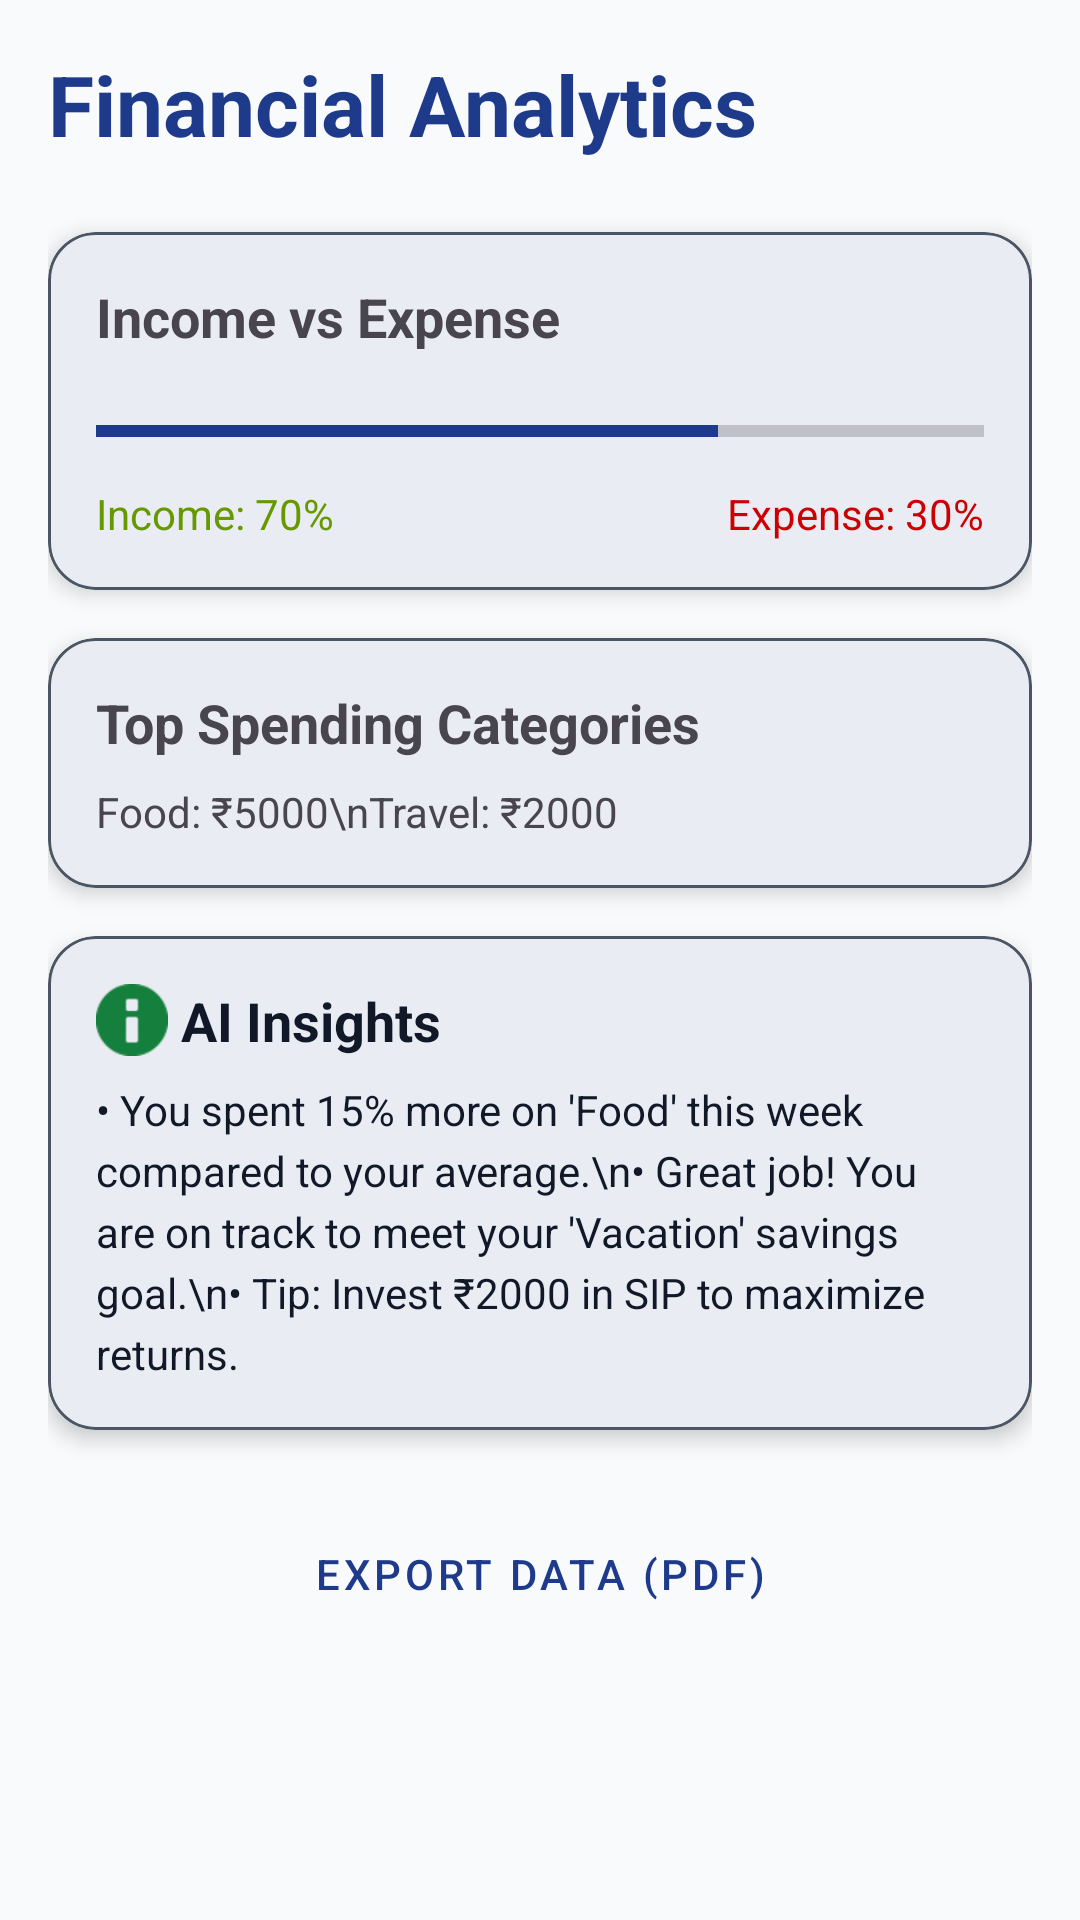

Locate icon controls on the screen. Image size 1080×1920, boxes as [x1=x1, y1=y1, x2=x2, y2=y2].
info: [x1=96, y1=984, x2=168, y2=1056]
